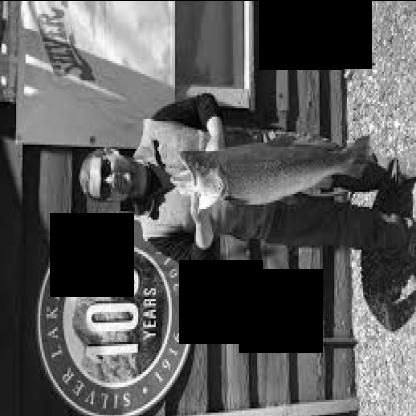fish: (169, 128, 371, 210)
